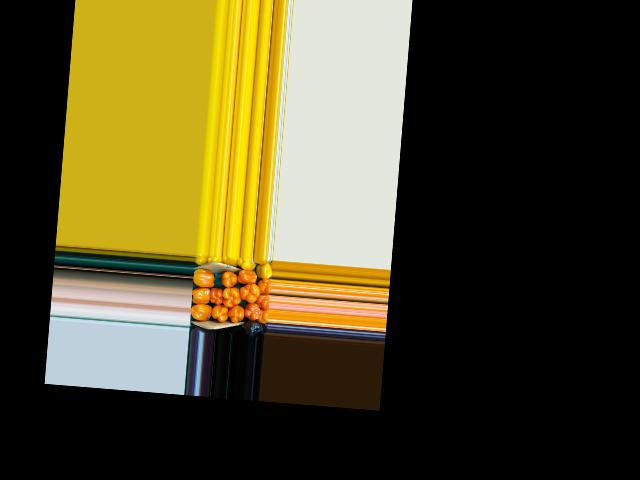bell_pepper: (234, 258, 256, 270)
